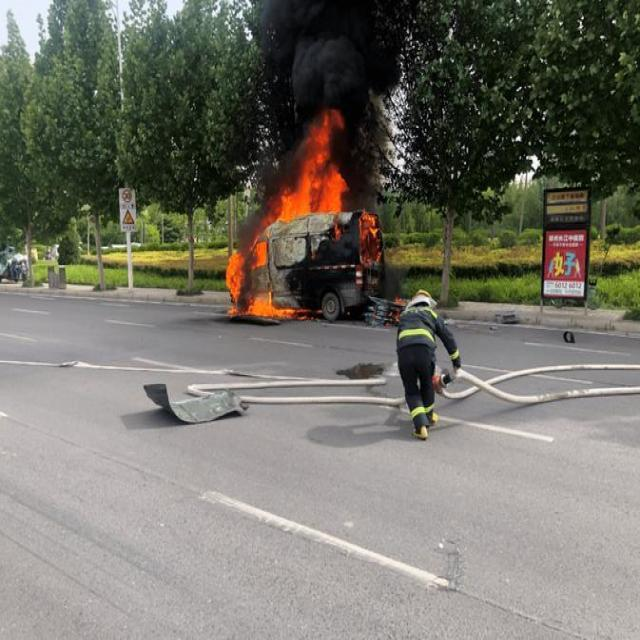Fire: (280, 113, 344, 217), (225, 244, 272, 314)
Smoke: (266, 2, 366, 112)
